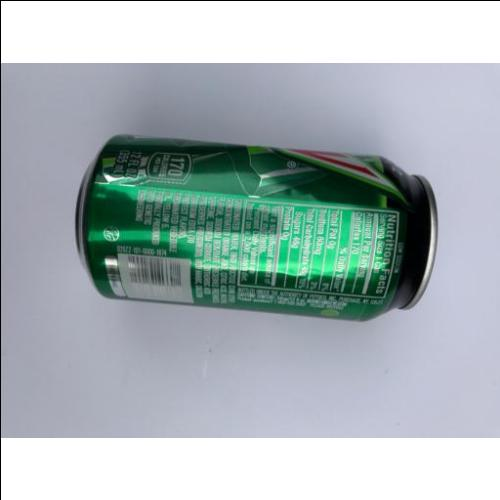metal: (81, 137, 437, 323)
